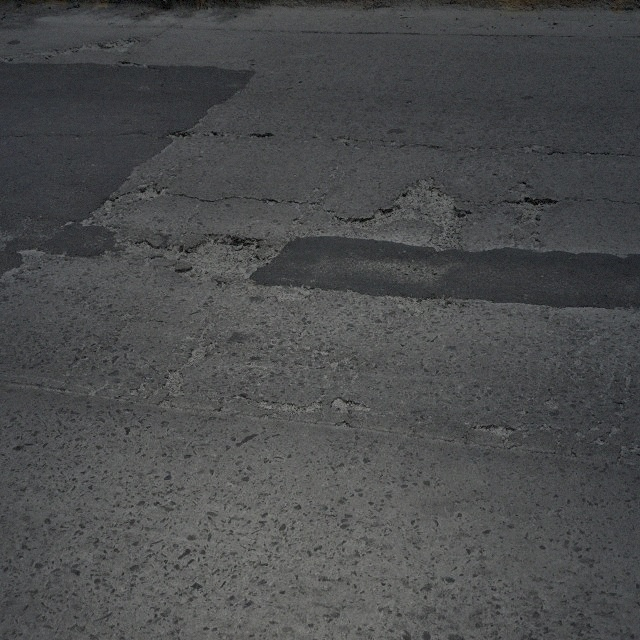pothole: (344, 172, 464, 228), (180, 228, 264, 284), (389, 172, 460, 226), (507, 191, 559, 227), (80, 194, 120, 240), (132, 234, 175, 271), (112, 184, 170, 210), (275, 281, 314, 301)
